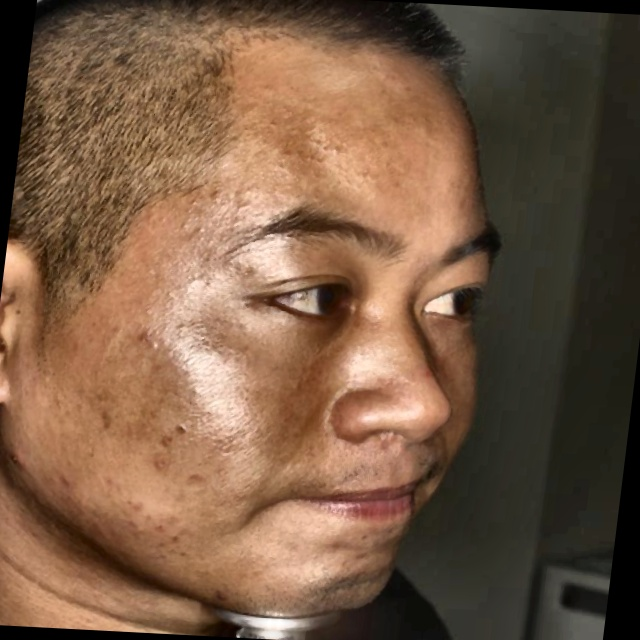comedone: (142, 454, 184, 478), (51, 462, 78, 497)
